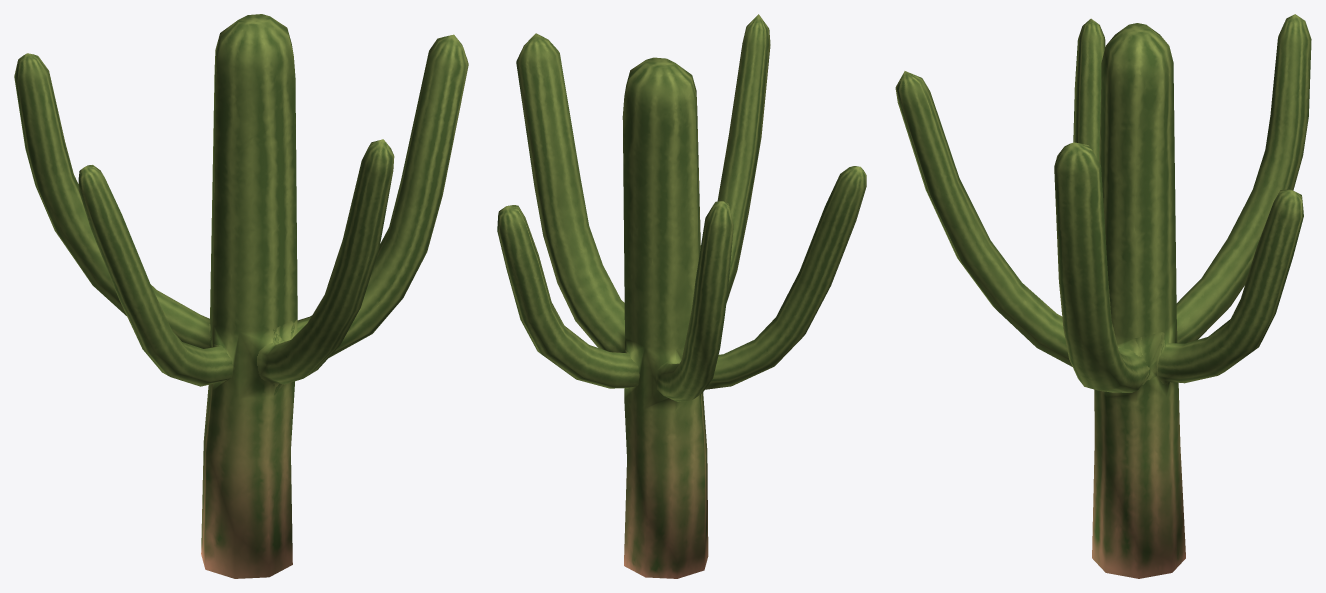
Rendered from cactus_5.glb.
3 views of the same model, side by side, from view 1: azimuth 30°, elevation 25°; view 2: azimuth 150°, elevation 25°; view 3: azimuth 270°, elevation 25° (orthographic). The views are drawn at different scales.
Visible parts, largest first — view 1: cactus_5_cacturs_5_0; view 2: cactus_5_cacturs_5_0; view 3: cactus_5_cacturs_5_0.
Part boxes in pixels (x1,y1,x2,y2): cactus_5_cacturs_5_0: (14, 14, 468, 578); cactus_5_cacturs_5_0: (497, 14, 866, 578); cactus_5_cacturs_5_0: (895, 14, 1311, 578).
Bounding box in the file's own units: 2 × 2.72 × 1.93.
Materials: 1 (1 with a texture image).
